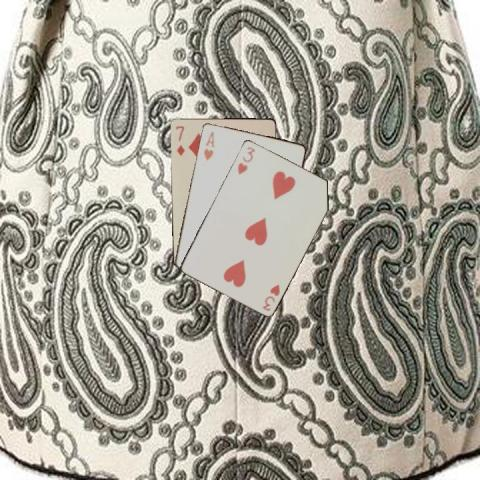3h: (235, 143, 256, 176), (260, 281, 282, 312)
7d: (173, 123, 186, 156)
Ah: (201, 129, 215, 162)
